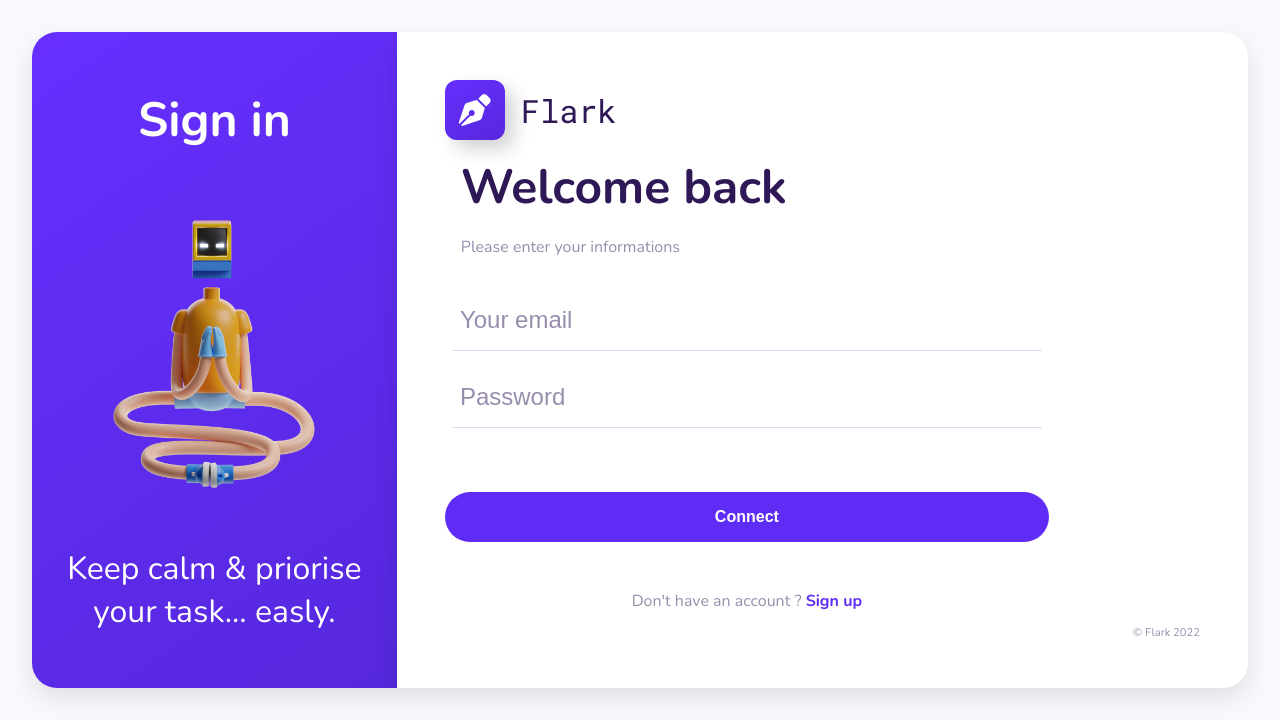
Scenario: SignIn Integration Tests › should have error message if email is complet but not password
Type "test@test.fr" into the field with placeholder "Your email" at (747, 320), box [452,290,1042,350]
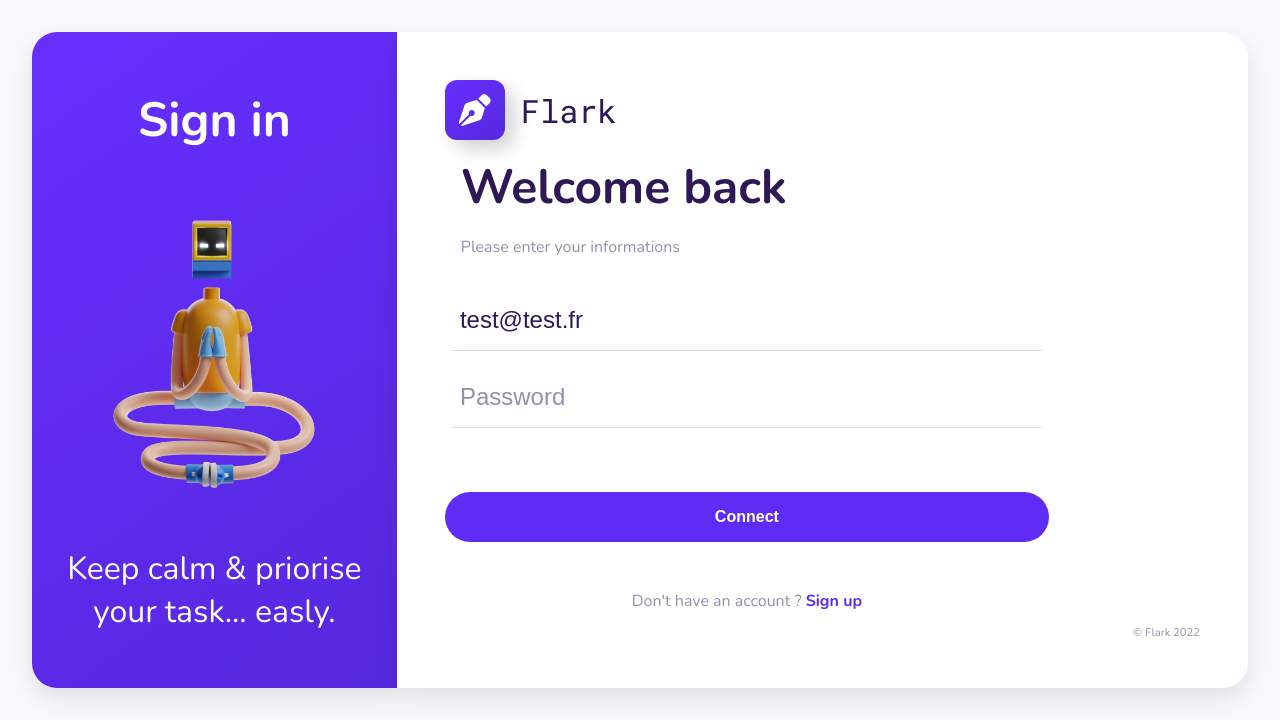
Click the button at (747, 516), box [445,492,1049,542]
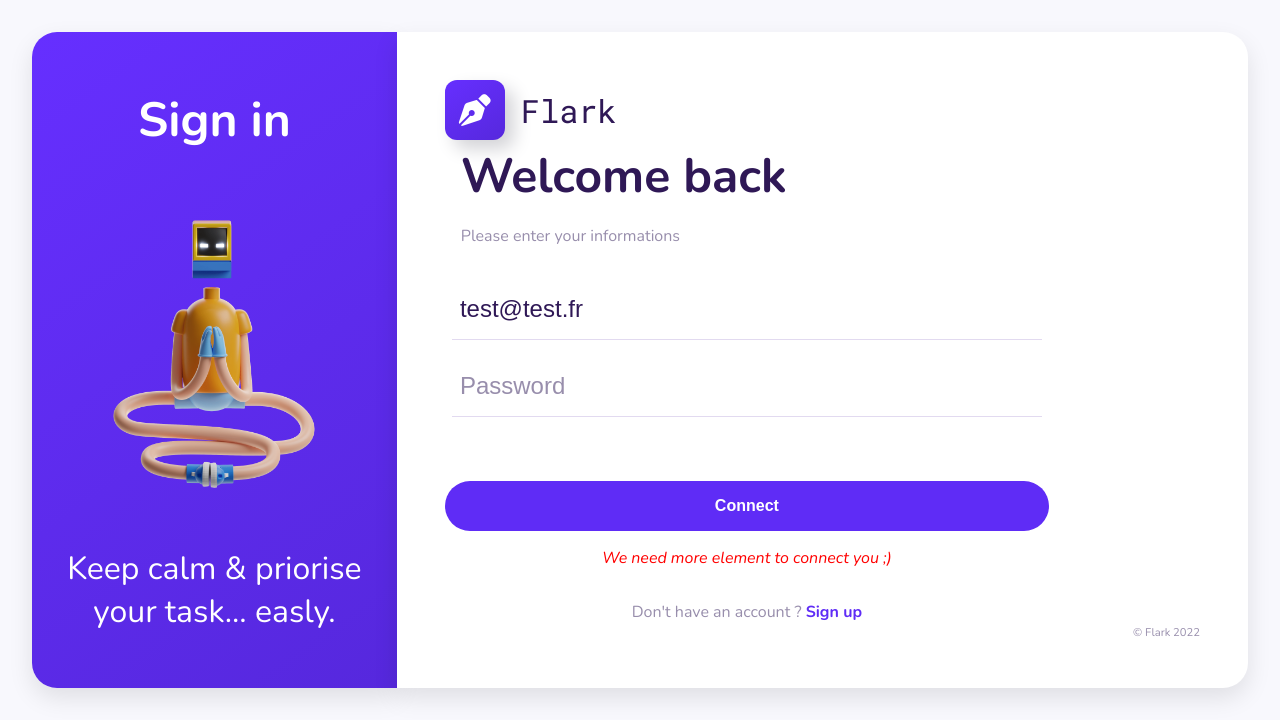
Expected: the text with test id "error-message" reads "We need more element to connect you ;)", [602,546,892,568]
